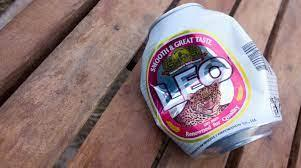metal: (140, 1, 285, 159)
